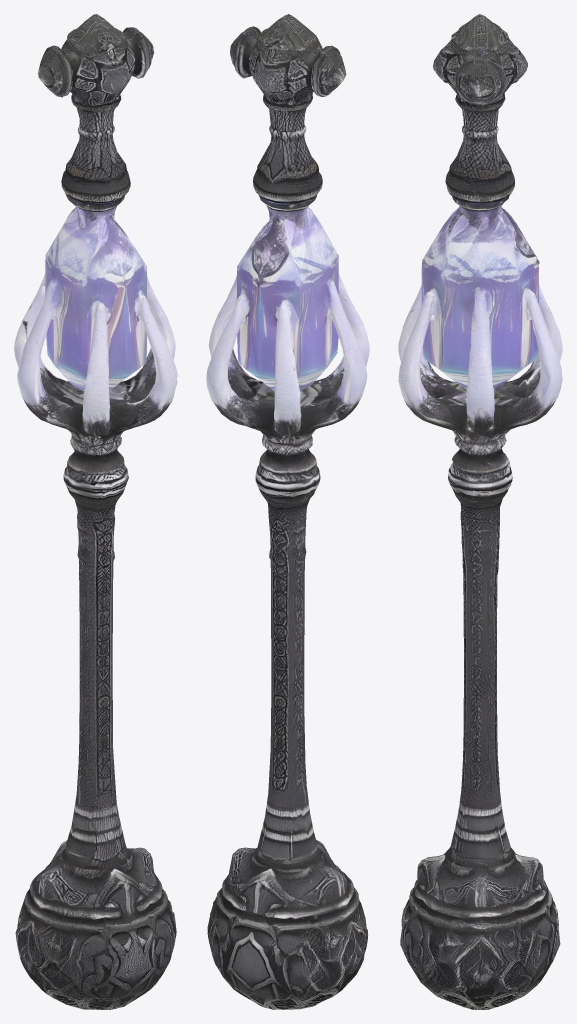
File: wpn-prismrod.glb
The picture shows the model from 3 angles, left to right: view 1: azimuth 30°, elevation 25°; view 2: azimuth 150°, elevation 25°; view 3: azimuth 270°, elevation 25°; orthographic projection.
Size of the model in its own units: 0.0486 by 0.3 by 0.0453.
Materials: 1 (1 with a texture image).
